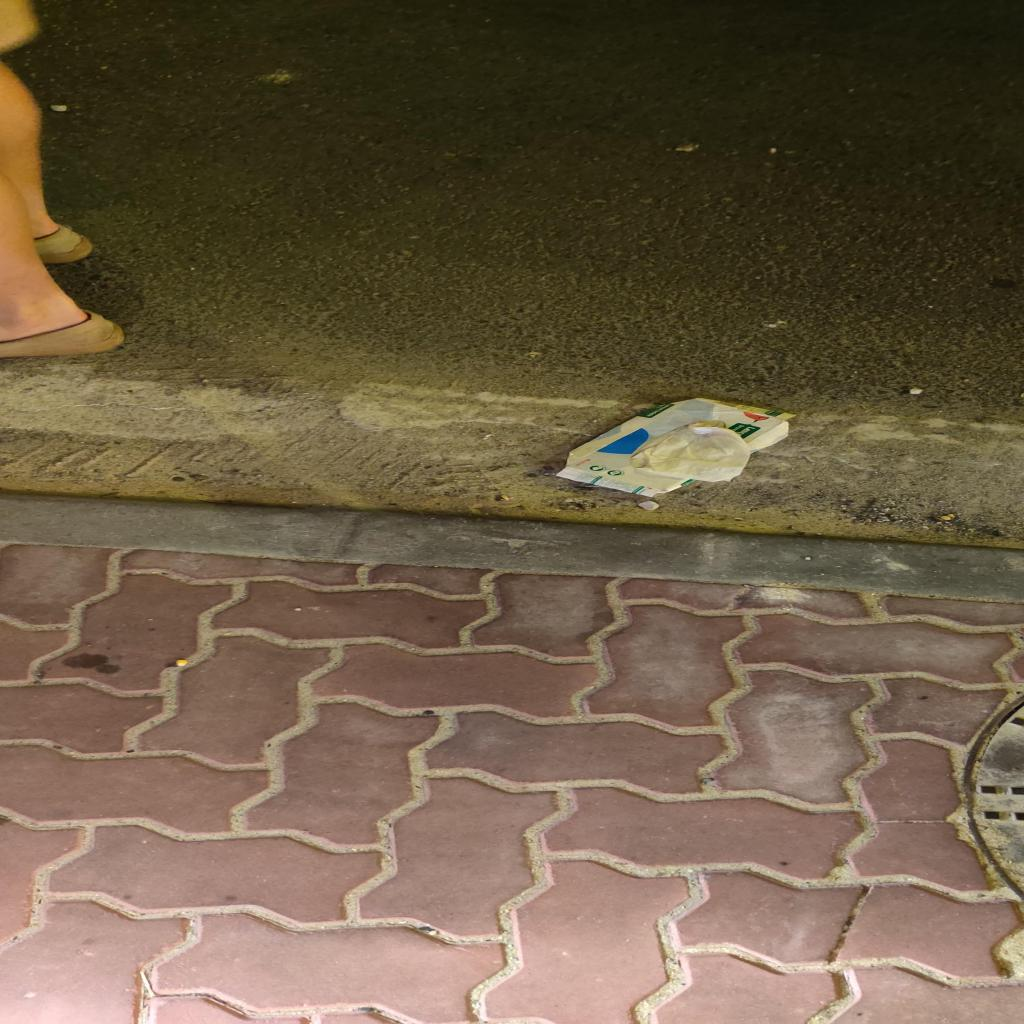Other carton: (556, 398, 798, 498)
Tissues: (628, 420, 752, 482)
